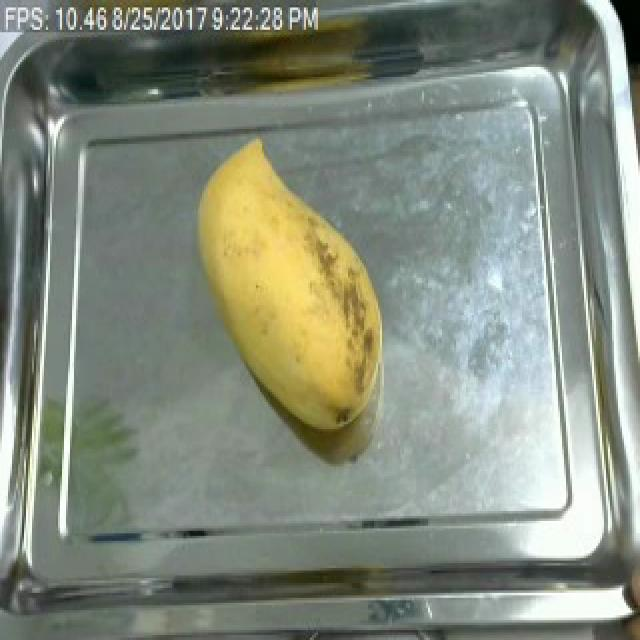fruit: (178, 124, 398, 449)
